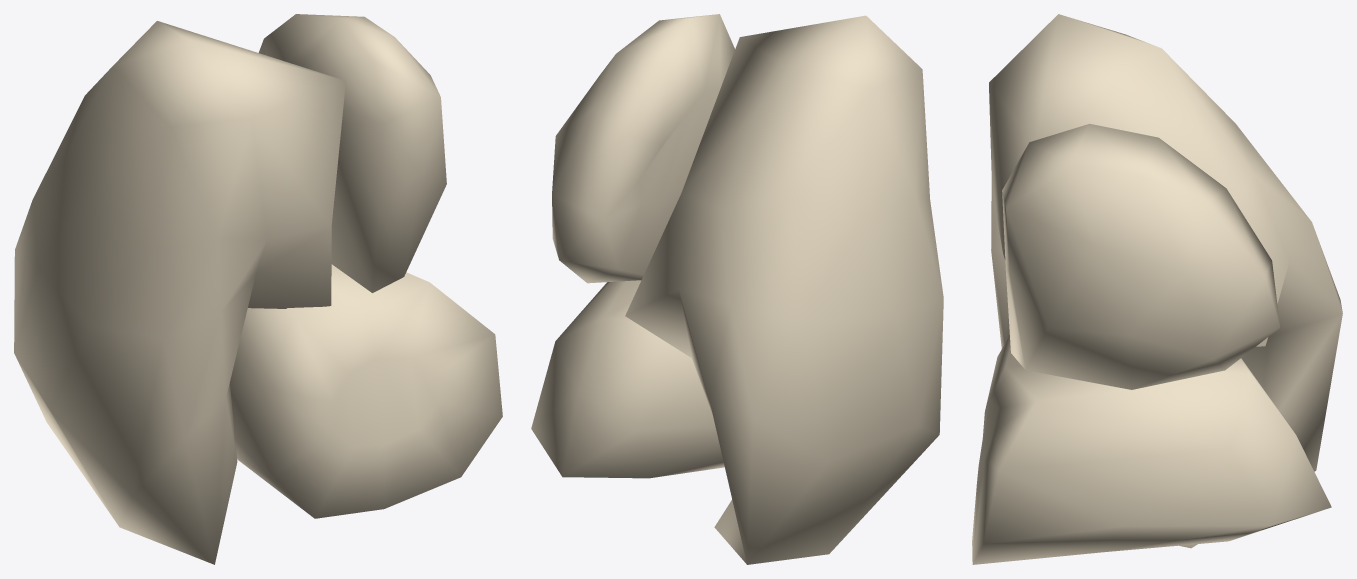
File: posterior-cells-of-ethmoid-bone-l.glb
The picture shows the model from 3 angles, left to right: view 1: azimuth 30°, elevation 25°; view 2: azimuth 150°, elevation 25°; view 3: azimuth 270°, elevation 25°; orthographic projection. The views are drawn at different scales.
Parts seen in each view (by area): view 1: Posterior cells of ethmoid bone.l; view 2: Posterior cells of ethmoid bone.l; view 3: Posterior cells of ethmoid bone.l.
Part boxes in pixels (x1,y1,x2,y2): Posterior cells of ethmoid bone.l: (14,14,502,564); Posterior cells of ethmoid bone.l: (531,14,943,564); Posterior cells of ethmoid bone.l: (972,14,1342,564).
Bounding box in the file's own units: 0.00983 × 0.0132 × 0.00879.
